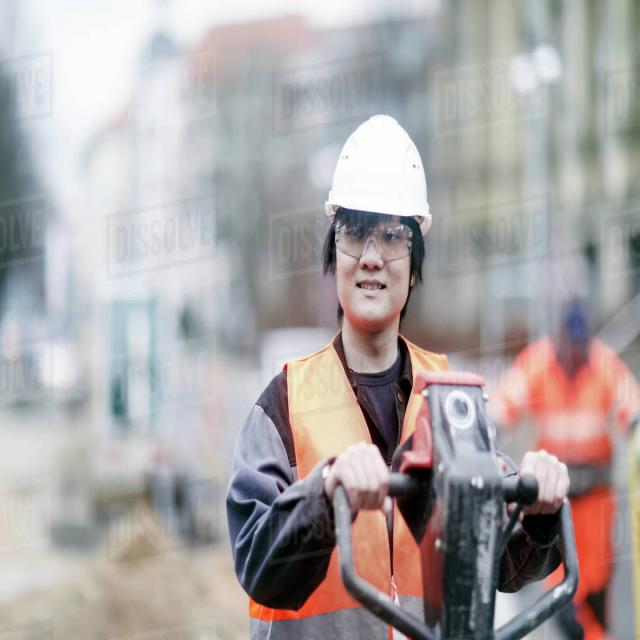Reflective-Jacket: (248, 338, 478, 636), (506, 338, 633, 600)
Safety-Helmet: (322, 108, 434, 228)
